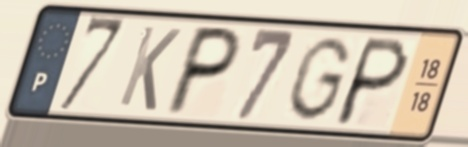7: (54, 13, 131, 114), (235, 24, 299, 125)
G: (282, 33, 355, 124)
K: (114, 22, 185, 114)
P: (159, 22, 247, 118), (330, 33, 414, 129)
